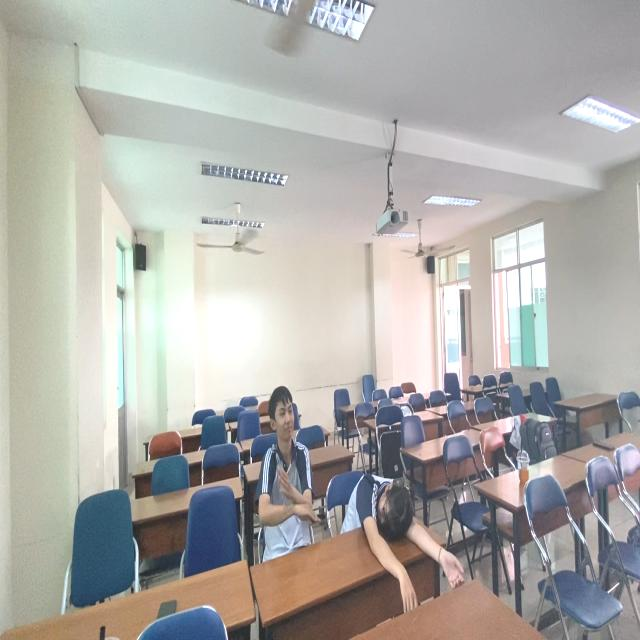sleep: (339, 466, 443, 565)
